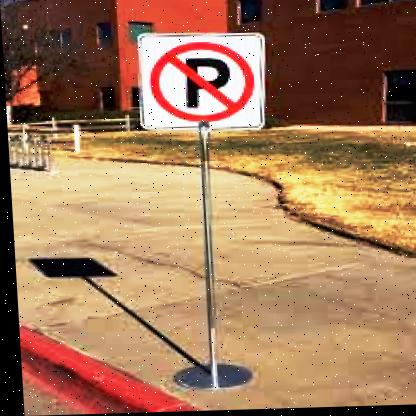No parking: (142, 33, 259, 130)
